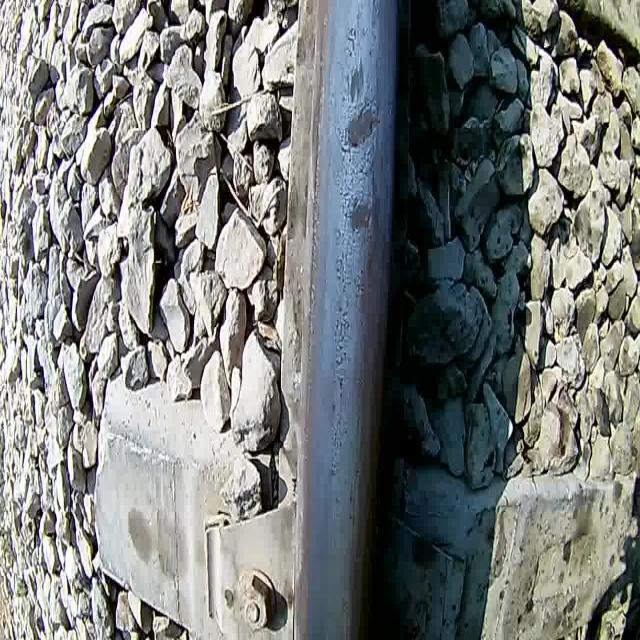Squats: (339, 101, 385, 150), (341, 188, 382, 238), (346, 56, 369, 103)
